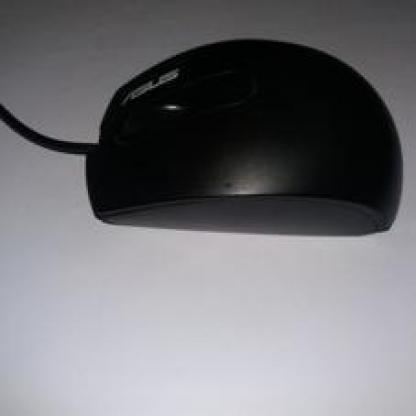mouse: (77, 32, 412, 266)
